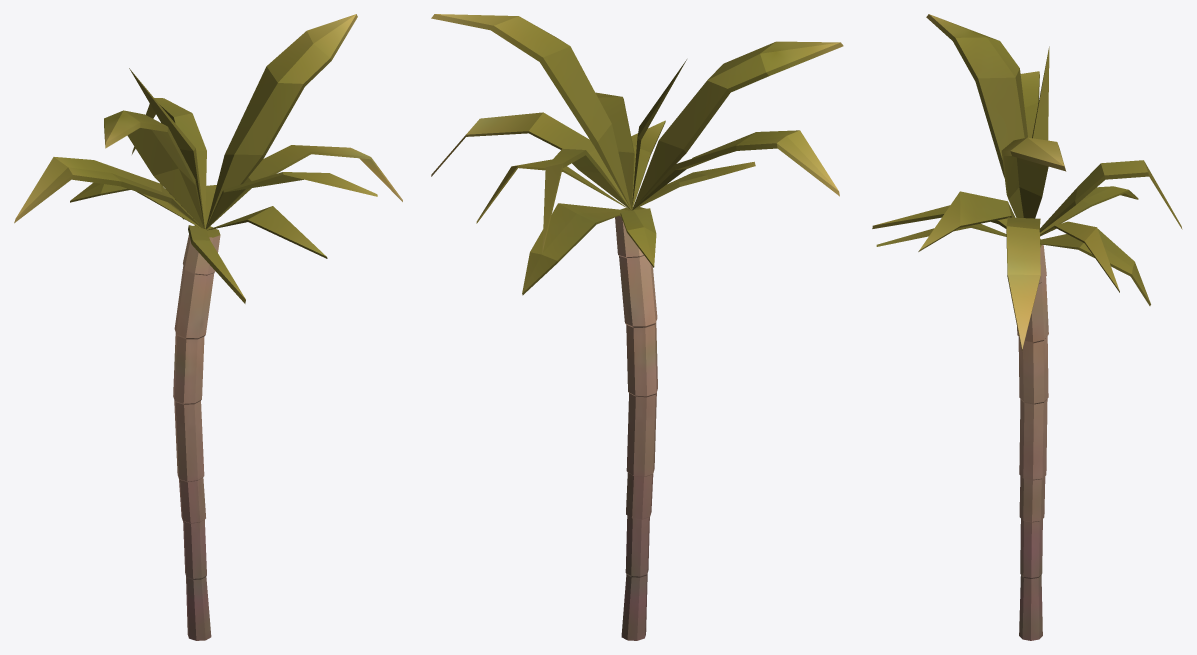
Rendered from palm.glb.
The picture shows the model from 3 angles, left to right: view 1: azimuth 30°, elevation 25°; view 2: azimuth 150°, elevation 25°; view 3: azimuth 270°, elevation 25°; orthographic projection. The views are drawn at different scales.
Visible parts, largest first — view 1: Cali.Palm.001; view 2: Cali.Palm.001; view 3: Cali.Palm.001.
Boxes of the visible parts, x1,y1,x2,y2 form: Cali.Palm.001: (14, 14, 402, 640); Cali.Palm.001: (431, 14, 843, 640); Cali.Palm.001: (872, 14, 1182, 640).
Bounding box in the file's own units: 4.69 × 6.62 × 3.31.
1 material, 1 textured.
